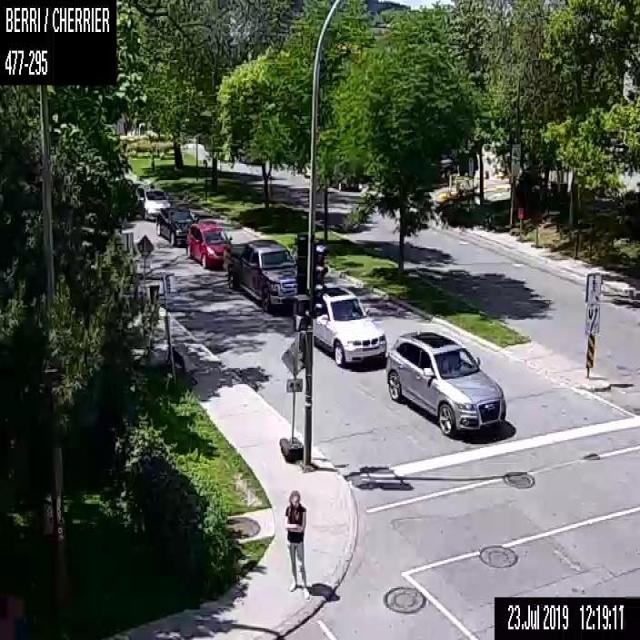construction: (515, 206, 526, 241)
pedestrian: (283, 488, 308, 597)
vehicle: (386, 330, 505, 436), (310, 285, 386, 364), (225, 238, 298, 310), (186, 222, 232, 269), (156, 206, 194, 246), (134, 184, 170, 219), (329, 176, 362, 191)
